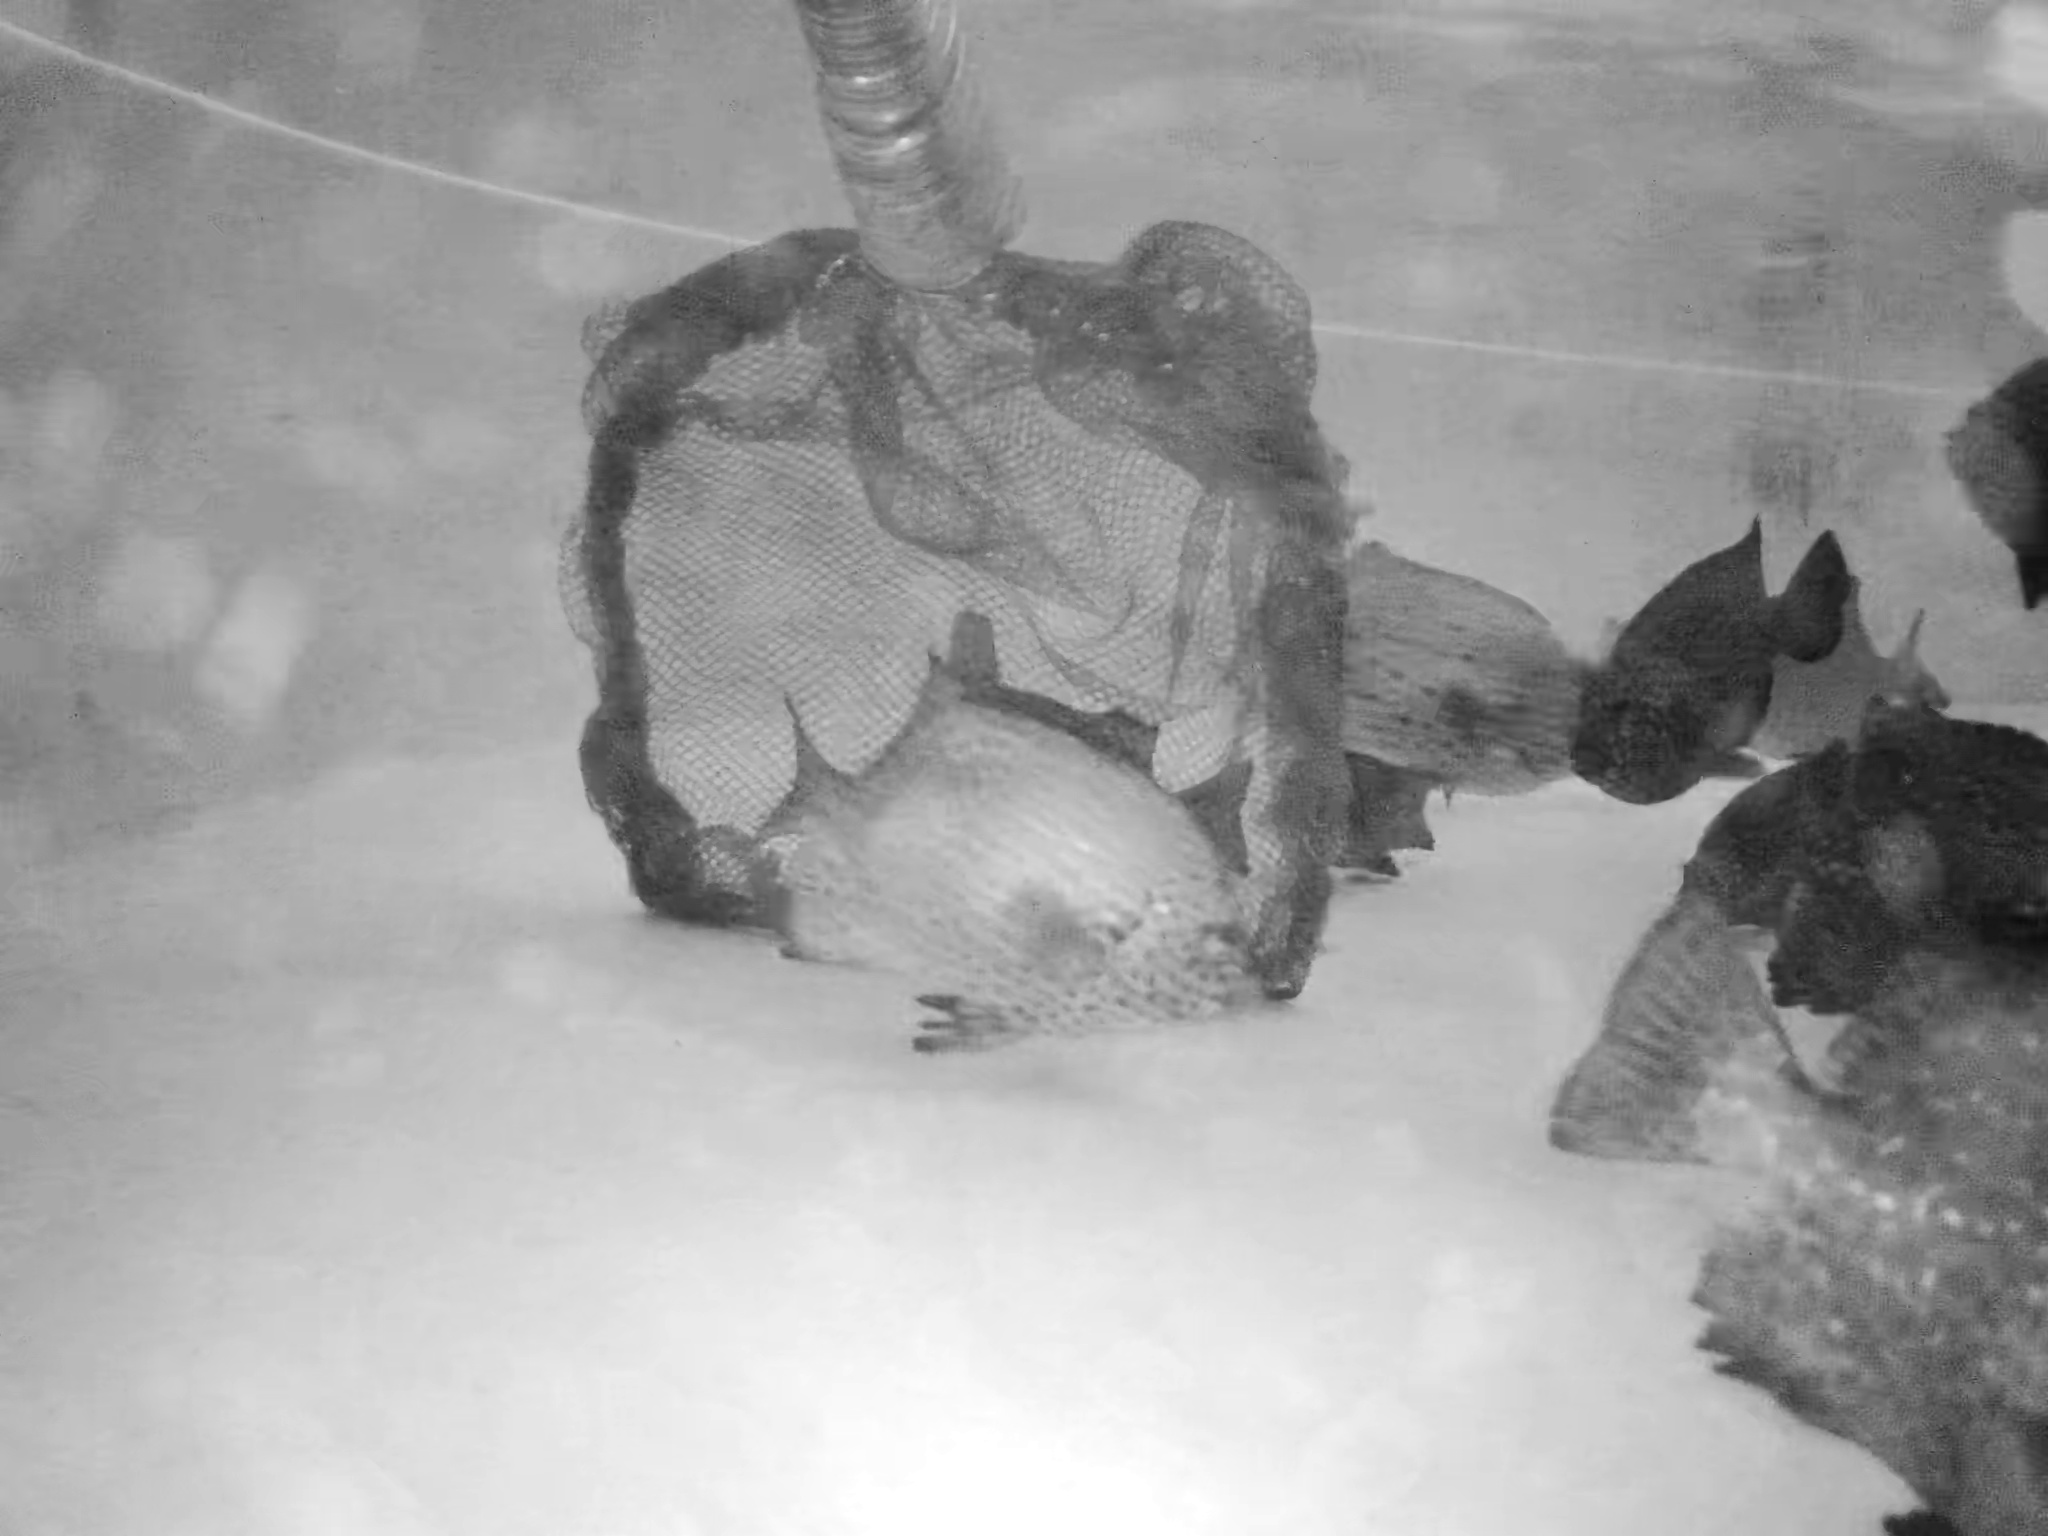fish: (1543, 874, 2048, 1536), (760, 641, 1271, 1066), (1279, 524, 1572, 794), (1692, 753, 2048, 973), (1564, 492, 1758, 794), (1730, 521, 1935, 757), (1951, 345, 2048, 616), (1316, 741, 1450, 895)
